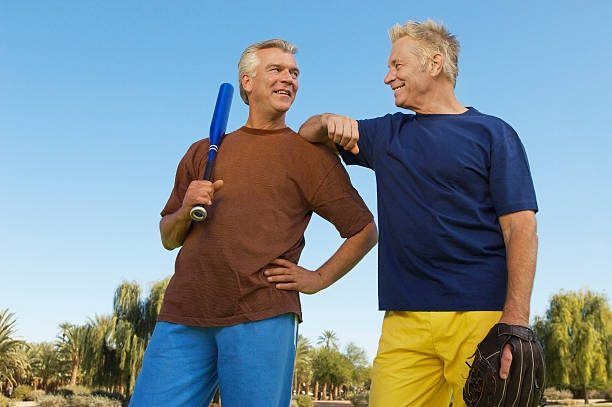bita: (192, 82, 236, 217)
